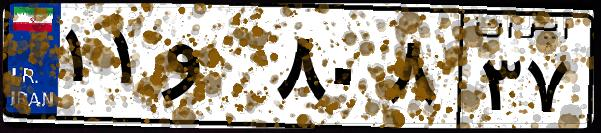0: (330, 28, 385, 110)
1: (57, 26, 110, 100), (110, 28, 158, 98)
3: (475, 38, 525, 113)
7: (525, 38, 570, 115)
8: (270, 28, 330, 110), (385, 28, 445, 110)
و: (158, 20, 270, 120)
